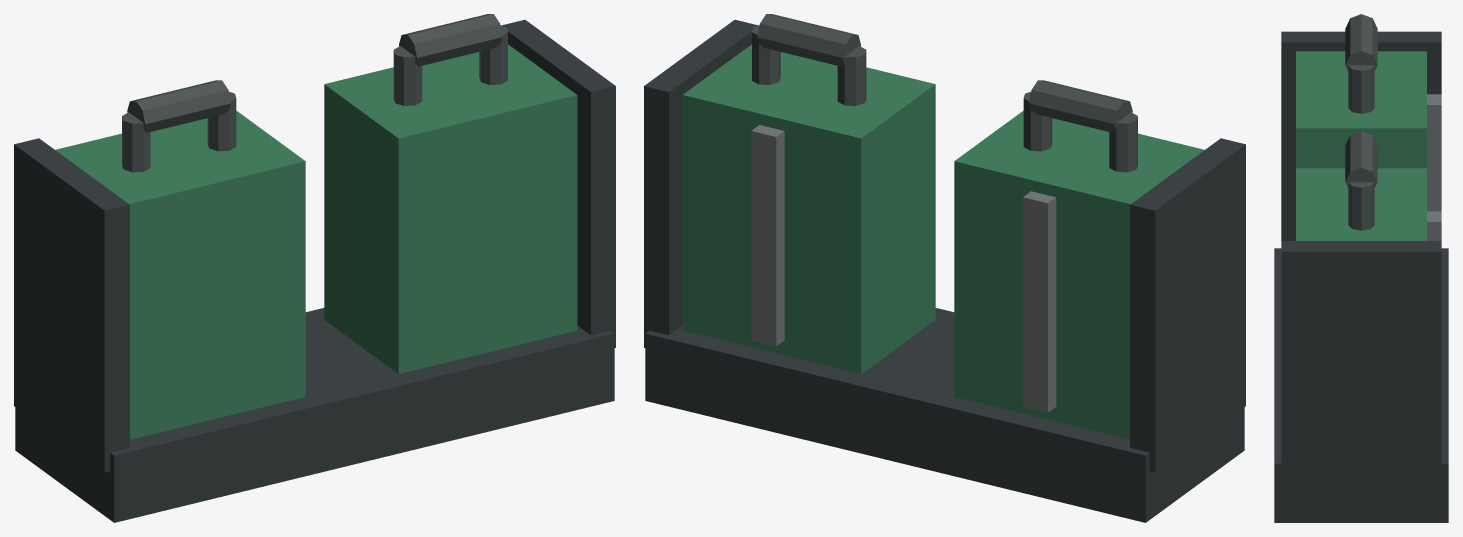
Rendered from HomebaseJerrycanPair_LOD00.gltf.
The picture shows the model from 3 angles, left to right: view 1: azimuth 30°, elevation 25°; view 2: azimuth 150°, elevation 25°; view 3: azimuth 270°, elevation 25°; orthographic projection. The views are drawn at different scales.
Visible parts, largest first — view 1: HomebaseJerrycanPair_node; view 2: HomebaseJerrycanPair_node; view 3: HomebaseJerrycanPair_node.
Boxes of the visible parts, x1,y1,x2,y2 form: HomebaseJerrycanPair_node: (14, 14, 615, 522); HomebaseJerrycanPair_node: (644, 14, 1245, 522); HomebaseJerrycanPair_node: (1274, 14, 1448, 522).
Size of the model in its own units: 0.715 by 0.492 by 0.24.
